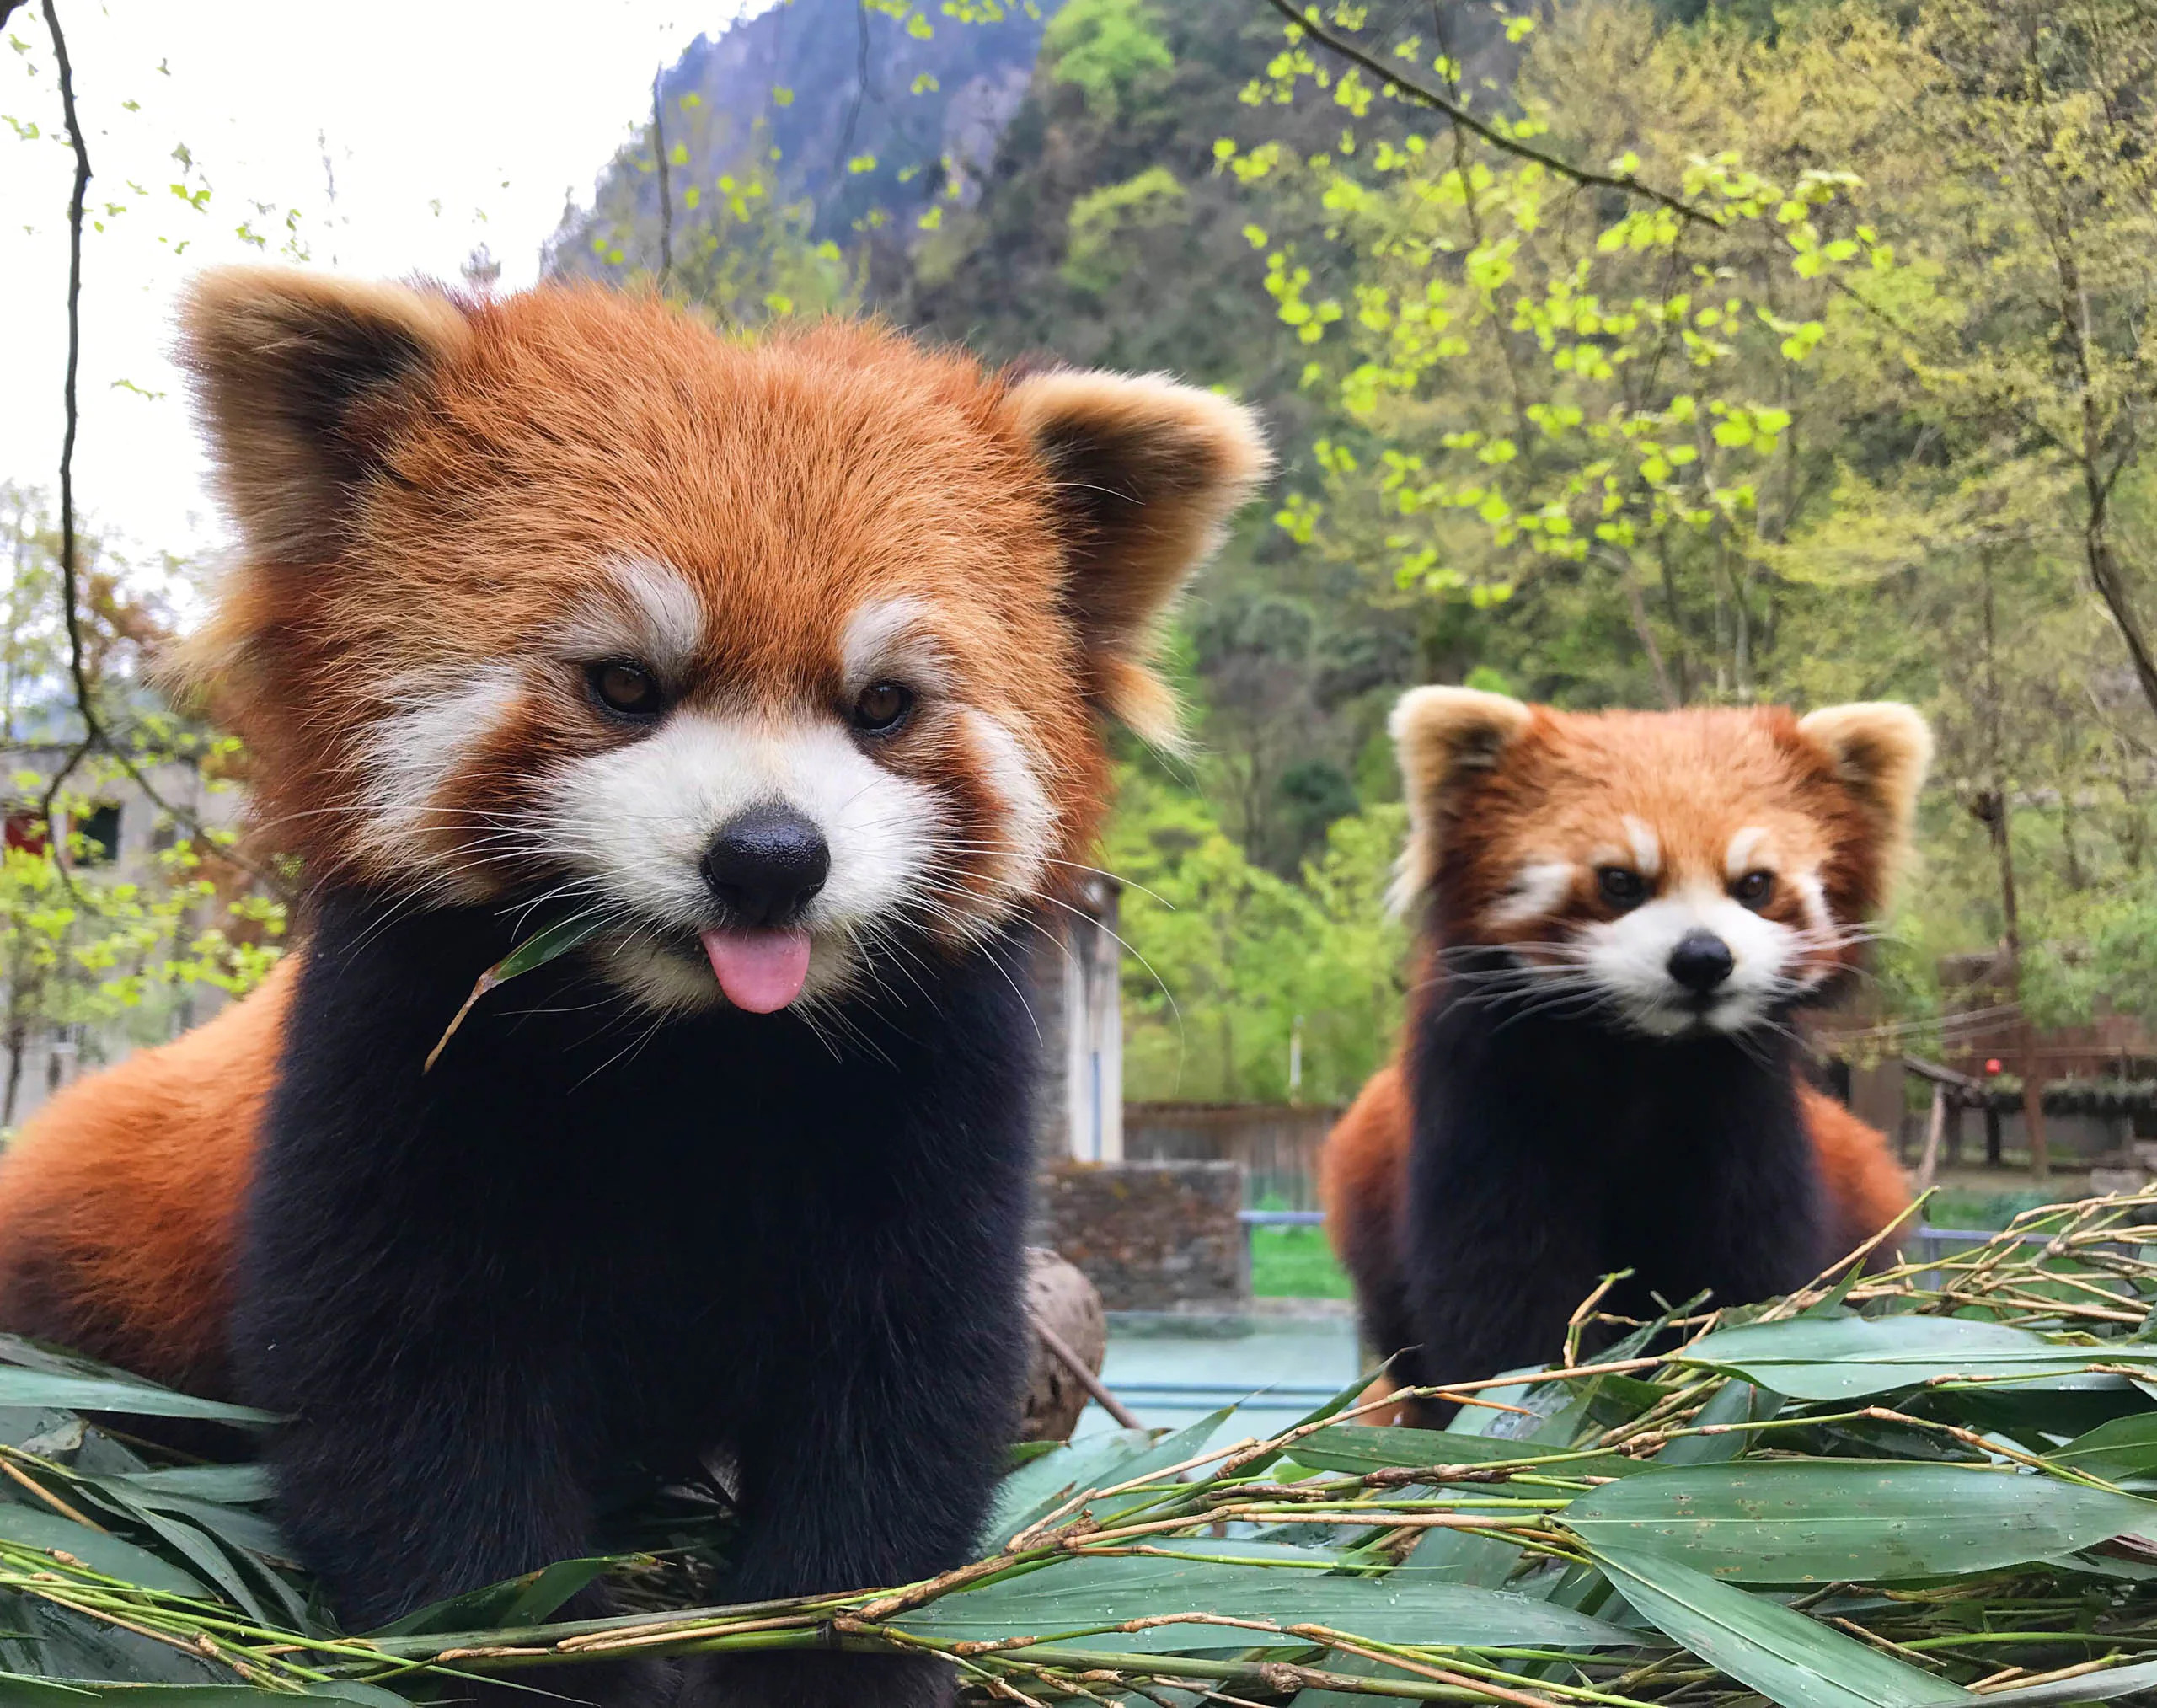Red panda: (151, 229, 1280, 1035), (1378, 680, 1942, 1056)
